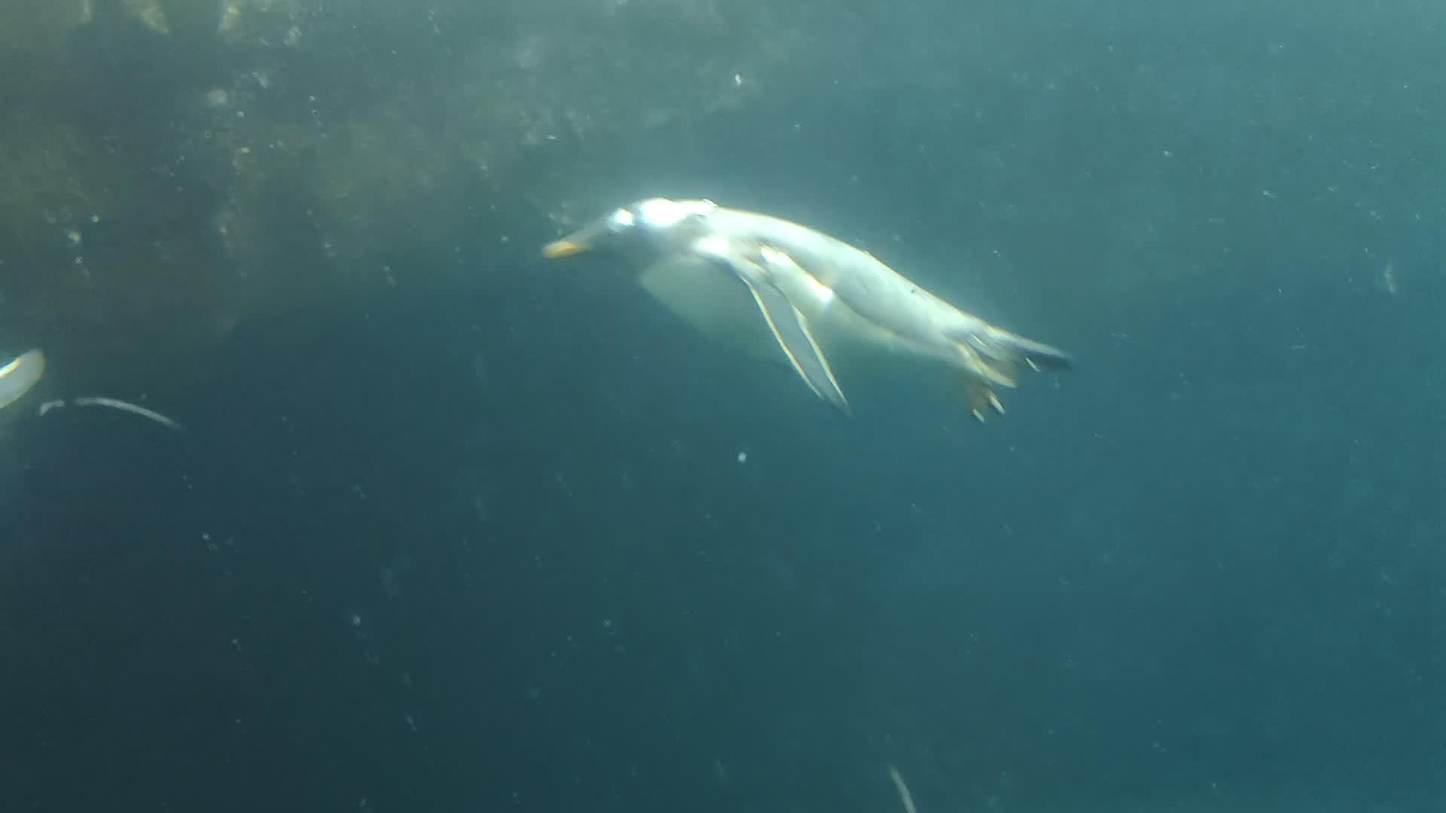apple: (542, 197, 1073, 425)
